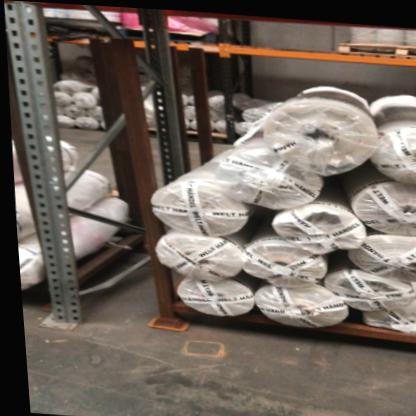vertical_damage: (35, 282, 85, 333)
